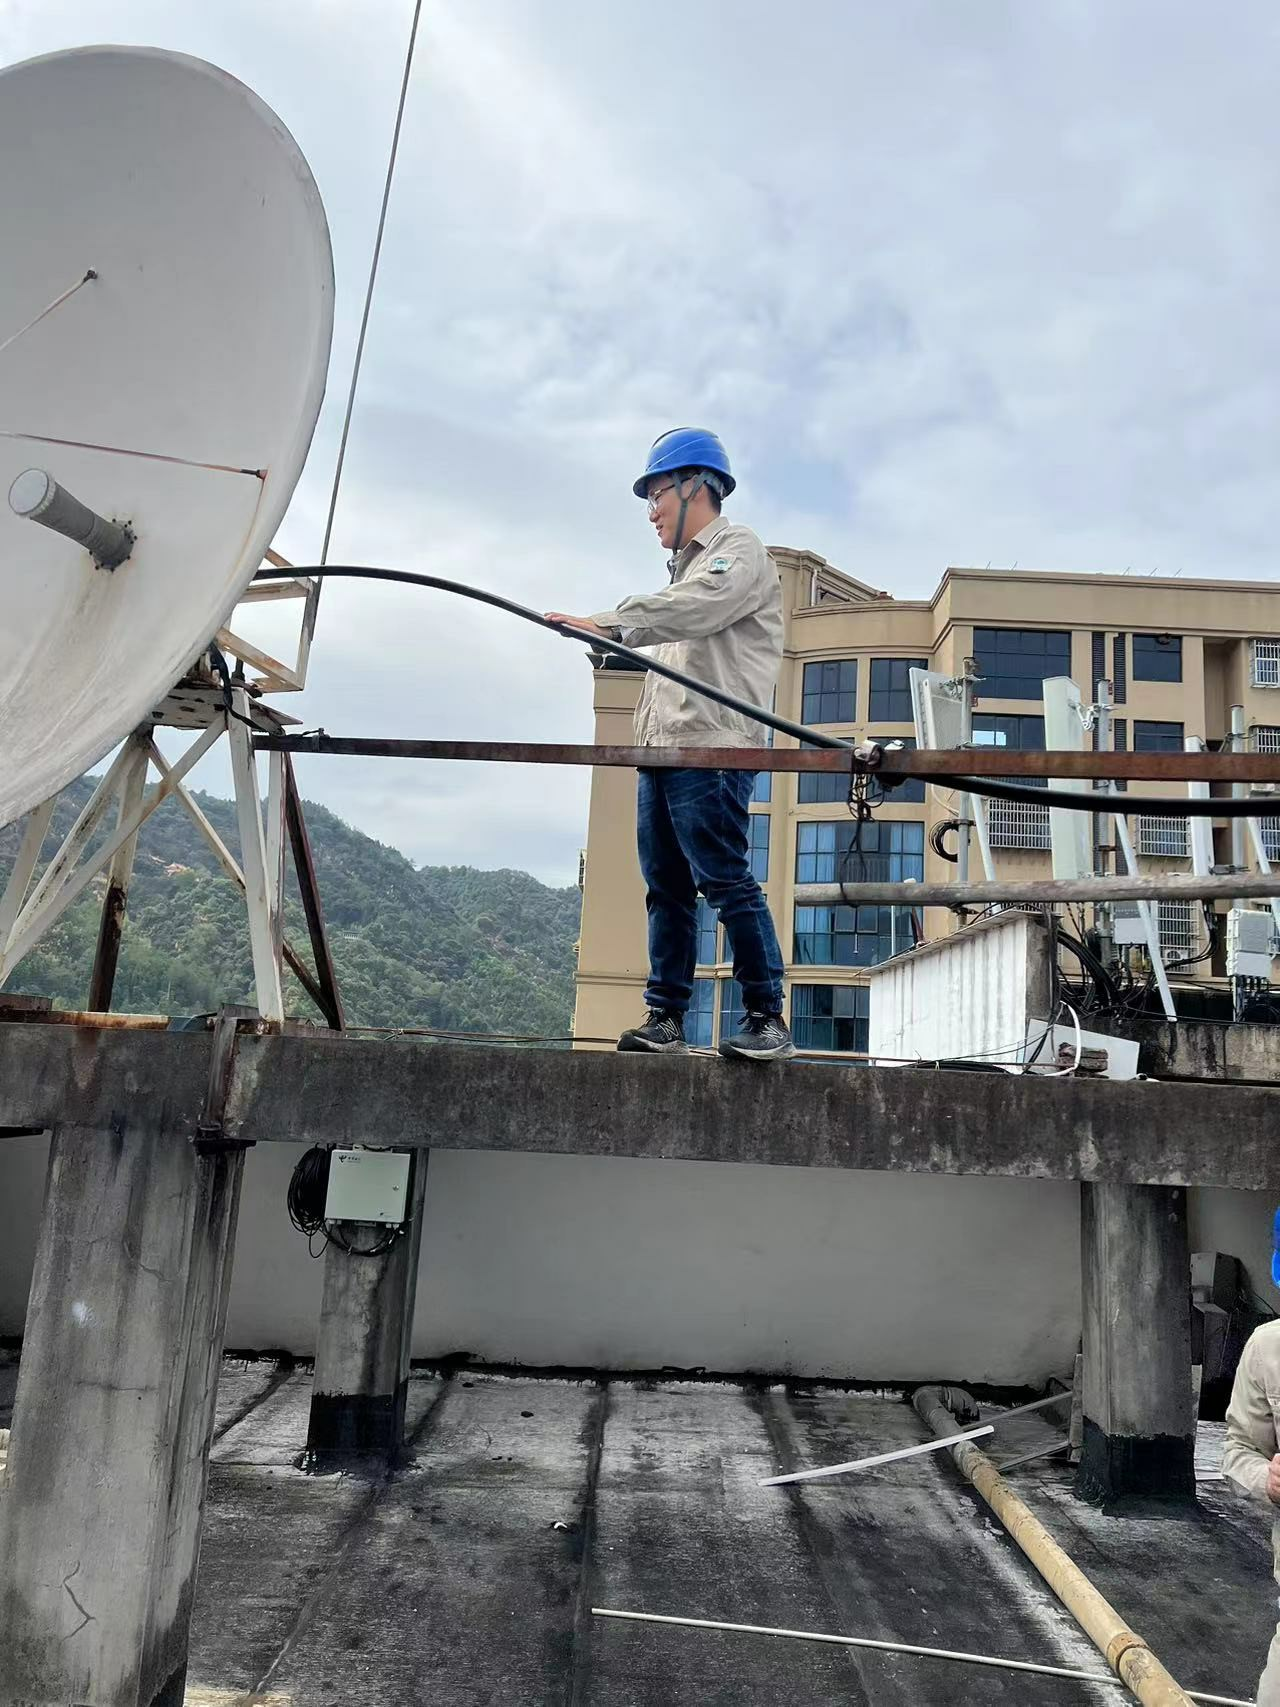hat: (631, 419, 741, 550)
